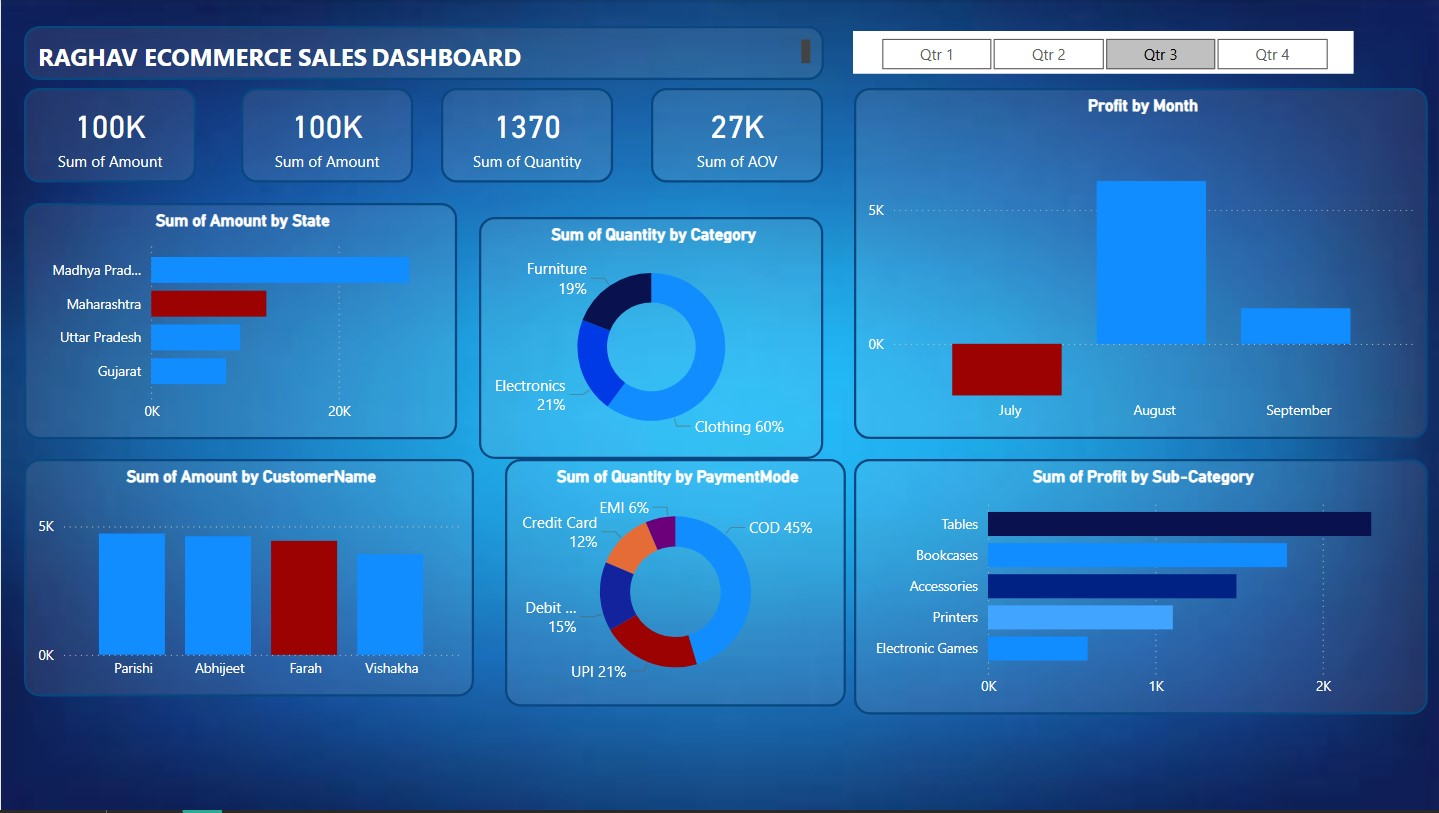

What the dashboard file says about the page in this screenshot:
{"tool":"powerbi","page":{"name":"Page 1","canvas":[1280,720],"ordinal":0},"visuals":[{"type":"textbox","box":[20,23,711,48],"z":0},{"type":"columnChart","title":"Profit by Month","fields":{"Category":["orders.Order Date.Variation.Date Hierarchy.Month"],"Y":["Sum(details.Profit)"]},"box":[758,78,510,312],"z":1000},{"type":"barChart","fields":{"Category":["details.Sub-Category"],"Y":["Sum(details.Profit)"]},"box":[758,408,510,227],"z":2000},{"type":"donutChart","fields":{"Category":["details.Category"],"Y":["Sum(details.Quantity)"]},"box":[425,192.6,306.4,215],"z":3000},{"type":"donutChart","fields":{"Y":["Sum(details.Quantity)"],"Category":["details.PaymentMode"]},"box":[448,408,303,220],"z":4000},{"type":"card","fields":{"Values":["Sum(details.Amount)"]},"box":[20,78,153,84],"z":5000},{"type":"card","fields":{"Values":["Sum(details.Amount)"]},"box":[213,78,153,84],"z":6000},{"type":"card","fields":{"Values":["Sum(details.Quantity)"]},"box":[391,78,153,84],"z":7000},{"type":"card","fields":{"Values":["Sum(details.AOV)"]},"box":[578,78,153,84],"z":8000},{"type":"barChart","fields":{"Category":["orders.State"],"Y":["Sum(details.Amount)"]},"box":[20,180,385,210],"z":9000},{"type":"columnChart","fields":{"Category":["orders.CustomerName"],"Y":["Sum(details.Amount)"]},"box":[20,408,400,211],"z":10000},{"type":"slicer","fields":{"Values":["orders.Order Date.Variation.Date Hierarchy.Quarter"]},"box":[757.7,27.2,445.5,37.9],"z":11000}]}

Visuals, with their boxes in screenshot pixels (x1, y1, x2, y2), scaled from the page's 1280x720 canvas onto the 1439x813 screenshot:
textbox: {"left": 22, "top": 26, "right": 822, "bottom": 80}
"Profit by Month" columnChart: {"left": 852, "top": 88, "right": 1426, "bottom": 440}
barChart - details.Sub-Category x Sum(details.Profit): {"left": 852, "top": 461, "right": 1426, "bottom": 717}
donutChart - details.Category x Sum(details.Quantity): {"left": 478, "top": 217, "right": 822, "bottom": 460}
donutChart - Sum(details.Quantity) x details.PaymentMode: {"left": 504, "top": 461, "right": 844, "bottom": 709}
card - Sum(details.Amount): {"left": 22, "top": 88, "right": 194, "bottom": 183}
card - Sum(details.Amount): {"left": 239, "top": 88, "right": 411, "bottom": 183}
card - Sum(details.Quantity): {"left": 440, "top": 88, "right": 612, "bottom": 183}
card - Sum(details.AOV): {"left": 650, "top": 88, "right": 822, "bottom": 183}
barChart - orders.State x Sum(details.Amount): {"left": 22, "top": 203, "right": 455, "bottom": 440}
columnChart - orders.CustomerName x Sum(details.Amount): {"left": 22, "top": 461, "right": 472, "bottom": 699}
slicer - orders.Order Date.Variation.Date Hierarchy.Quarter: {"left": 852, "top": 31, "right": 1353, "bottom": 74}
